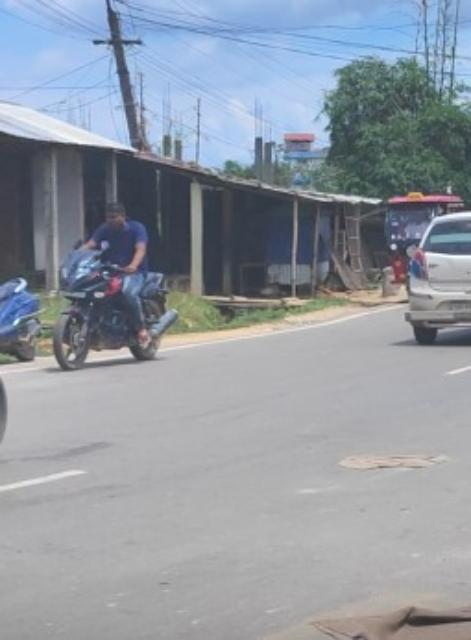licensePlate: (55, 291, 86, 299)
motorcycle: (52, 198, 176, 370)
withoutHelmet: (102, 202, 123, 230)
